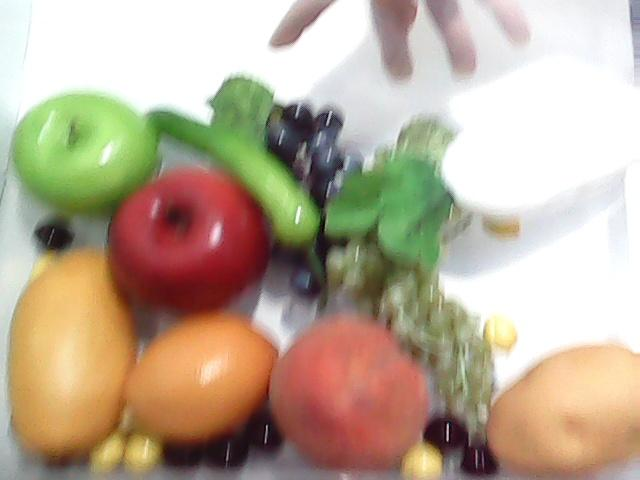apple: (106, 158, 270, 322), (8, 87, 168, 221)
grape: (326, 200, 502, 400), (270, 103, 352, 300)
lemon: (128, 315, 274, 453)
mango: (9, 245, 132, 463)
peach: (270, 310, 432, 472)
pepper: (150, 106, 326, 256)
potato: (480, 338, 640, 480)
radish: (323, 58, 637, 268)
